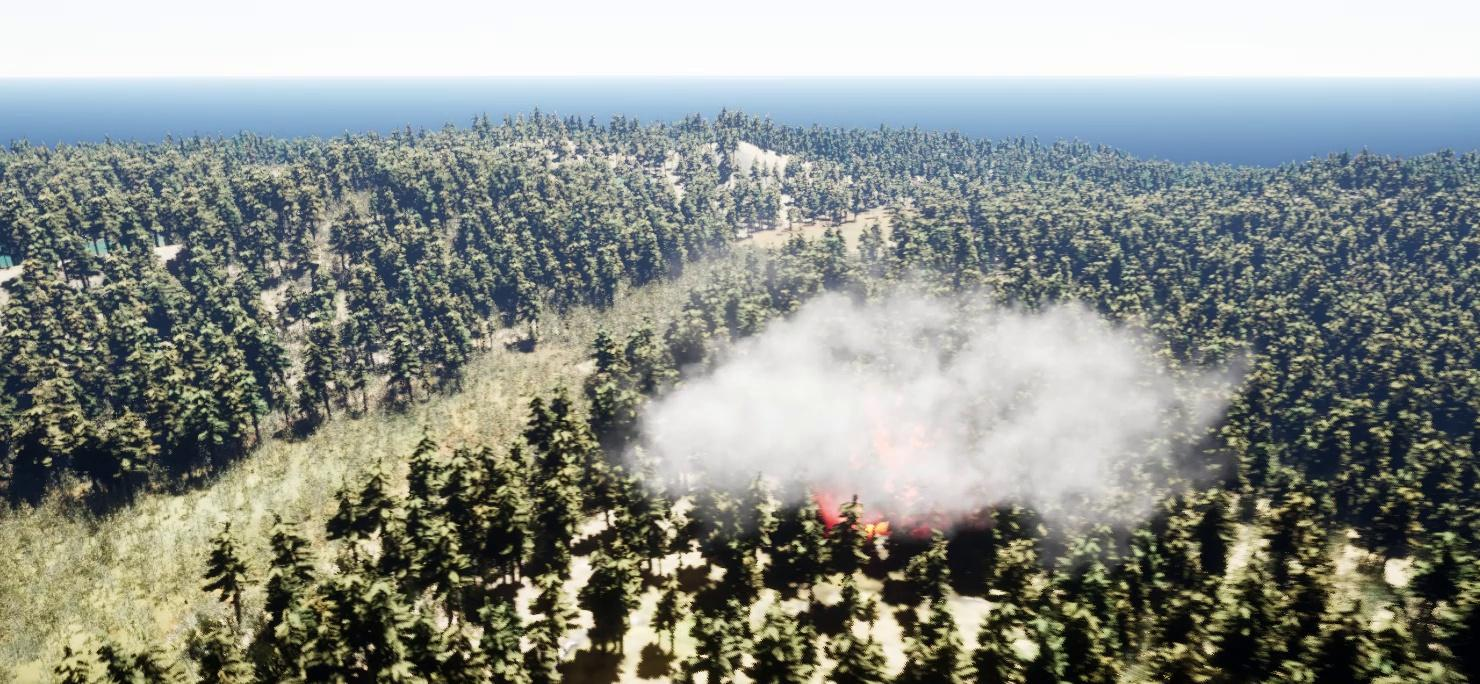fire: (809, 403, 944, 533)
smoke: (611, 283, 1267, 550)
